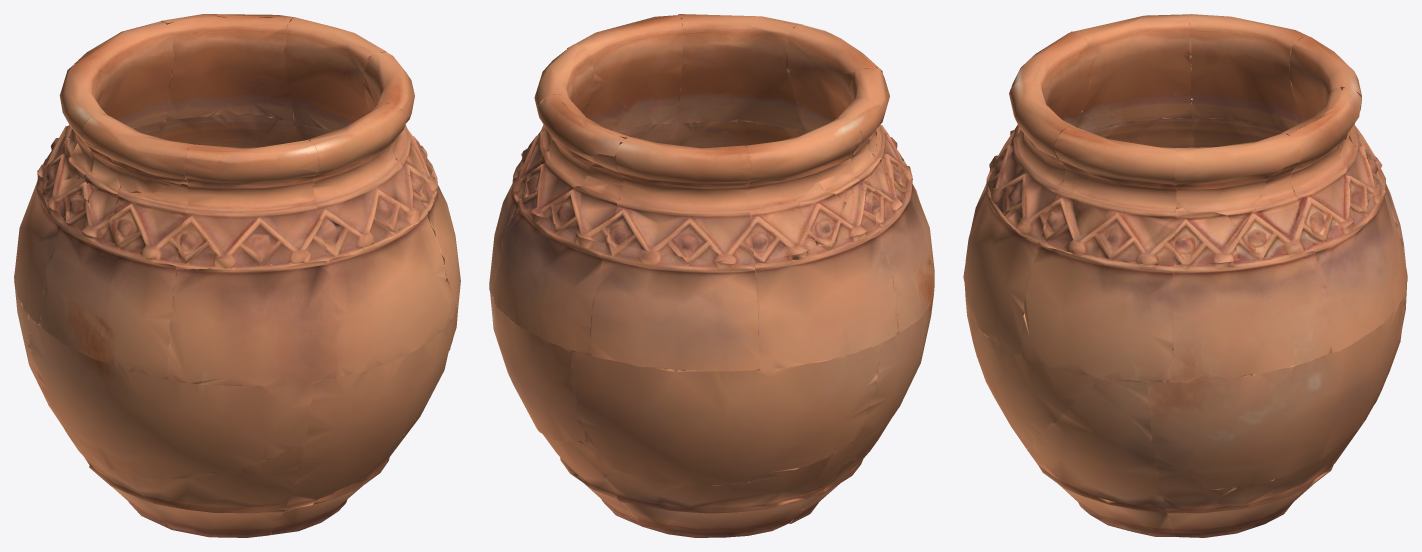
The model's file is o07_toprak_comlek.glb.
3 views of the same model, side by side, from view 1: azimuth 30°, elevation 25°; view 2: azimuth 150°, elevation 25°; view 3: azimuth 270°, elevation 25° (orthographic).
Visible parts, largest first — view 1: mesh_node; view 2: mesh_node; view 3: mesh_node.
Part boxes in pixels (x1,y1,x2,y2): mesh_node: (14,14,460,537); mesh_node: (489,14,934,537); mesh_node: (963,14,1407,537).
Size of the model in its own units: 1.87 by 1.9 by 1.87.
1 material, 1 textured.
